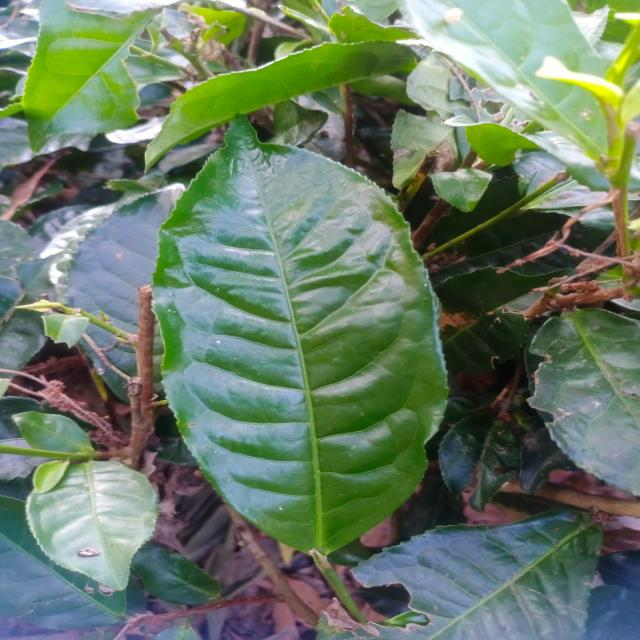Category D 7+ days, Not for Tea: (136, 107, 507, 563)
